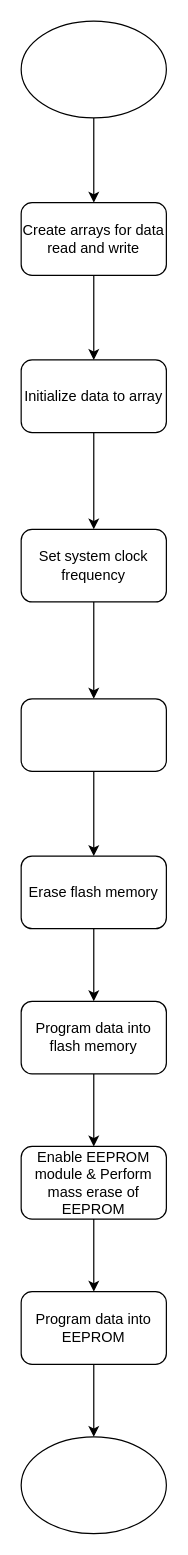
Some shapes in this 188 by 1555 pixel diagram are drawn without their labels. The box of each missing label's shape, as (x1, y1, x2, y2) in pixels:
Enable GPIO port N and configure pins as outputs: (20, 698, 166, 771)
Start: (20, 20, 166, 118)
Stop: (20, 1436, 166, 1534)
